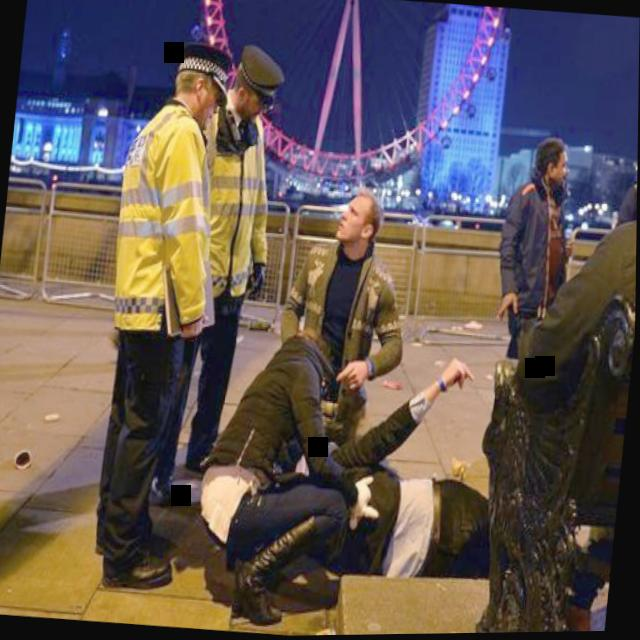Fall-Detected: (272, 442, 596, 617)
